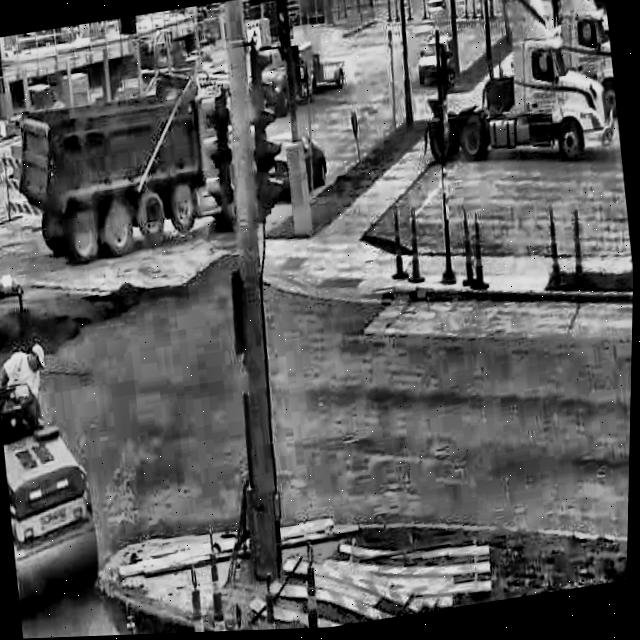dump_truck: (2, 58, 248, 272)
